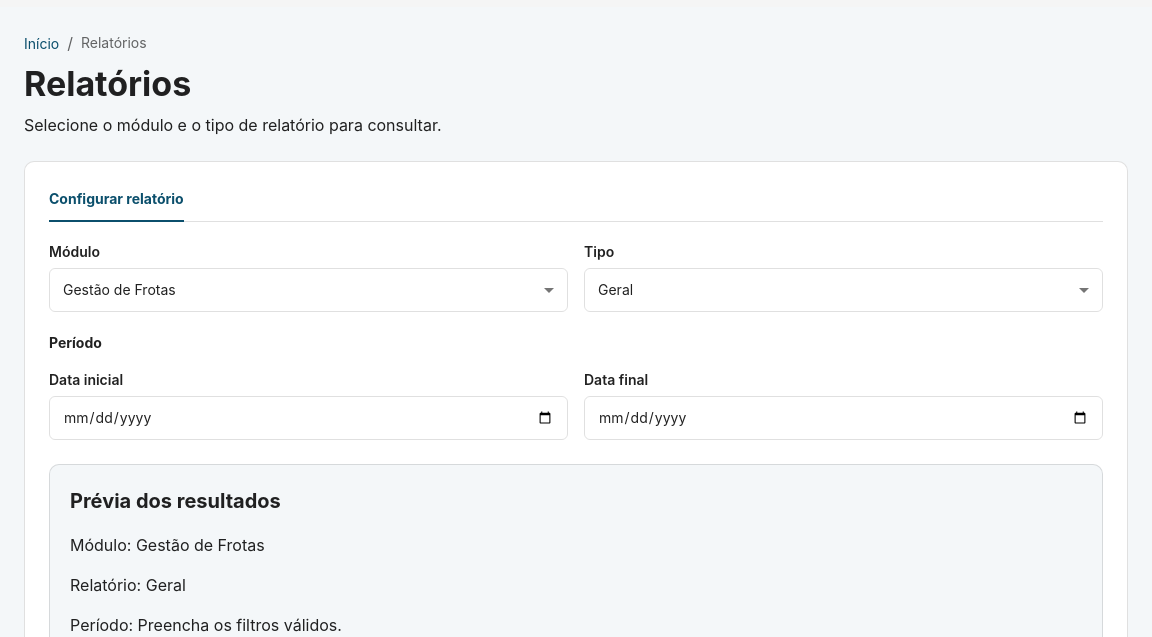
Test: mostra ausência de resultados sem habilitar exportações
Select "Individual" in the dropdown labelled "Tipo" at (844, 290), box [584,268,1103,312]
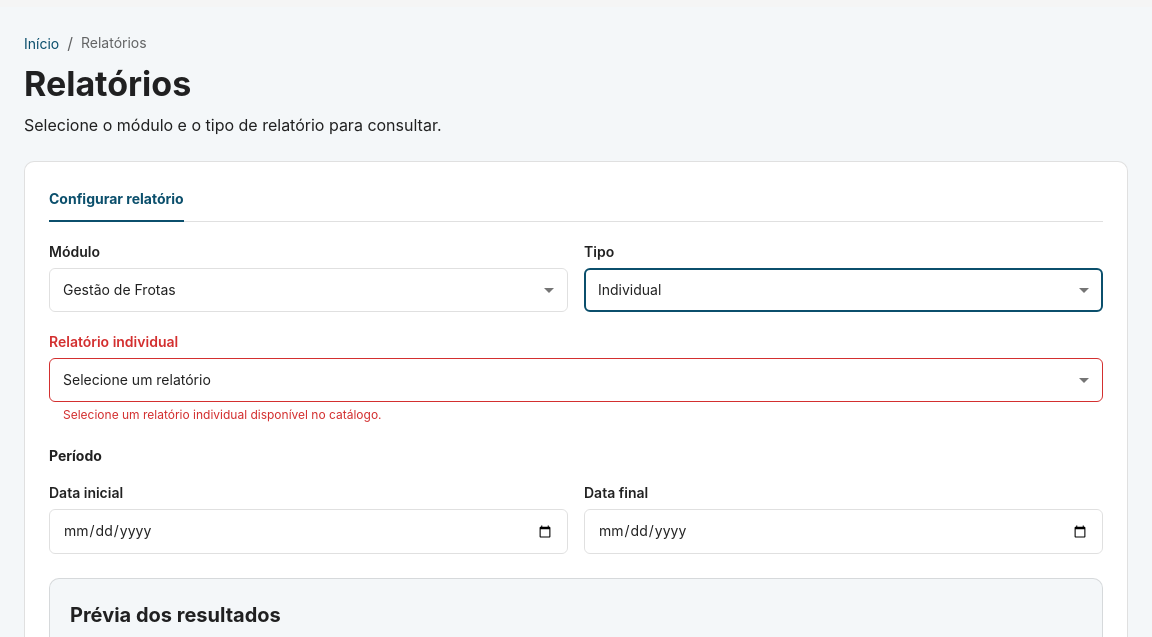
Select "Abastecimentos" in the dropdown labelled "Relatório individual" at (576, 380), box [49,358,1103,402]
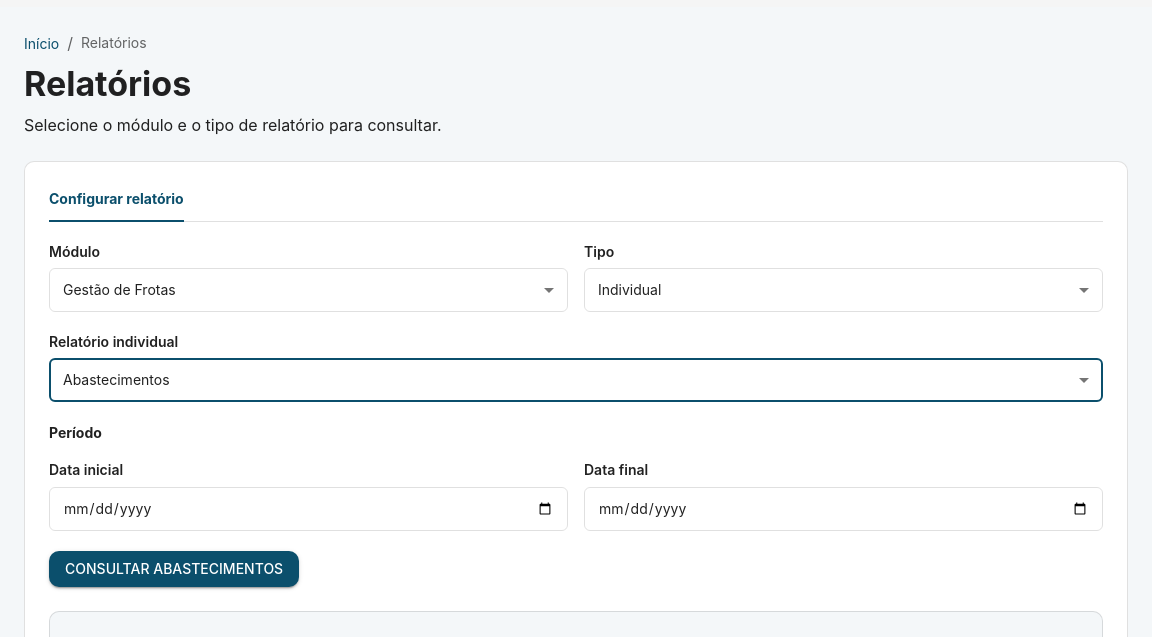
Type "2026-11-01" into the date field labelled "Data inicial".
click(308, 509); type("2026-11-01")  # box [49,486,568,531]
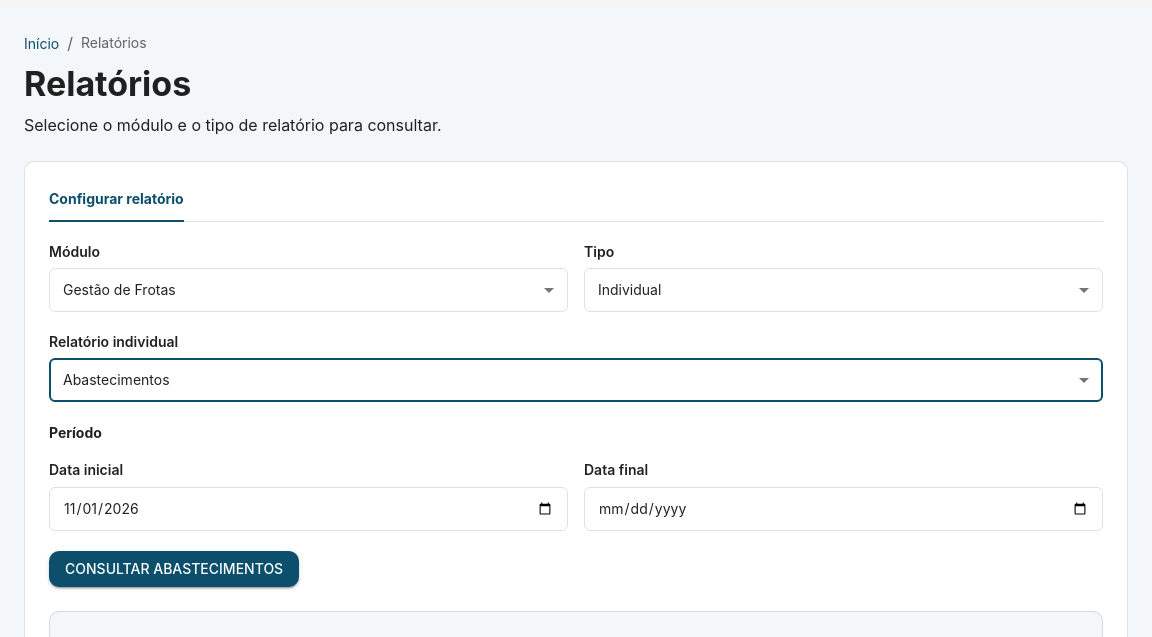
Type "2026-11-14" into the date field labelled "Data final".
click(844, 509); type("2026-11-14")  # box [584,486,1103,531]
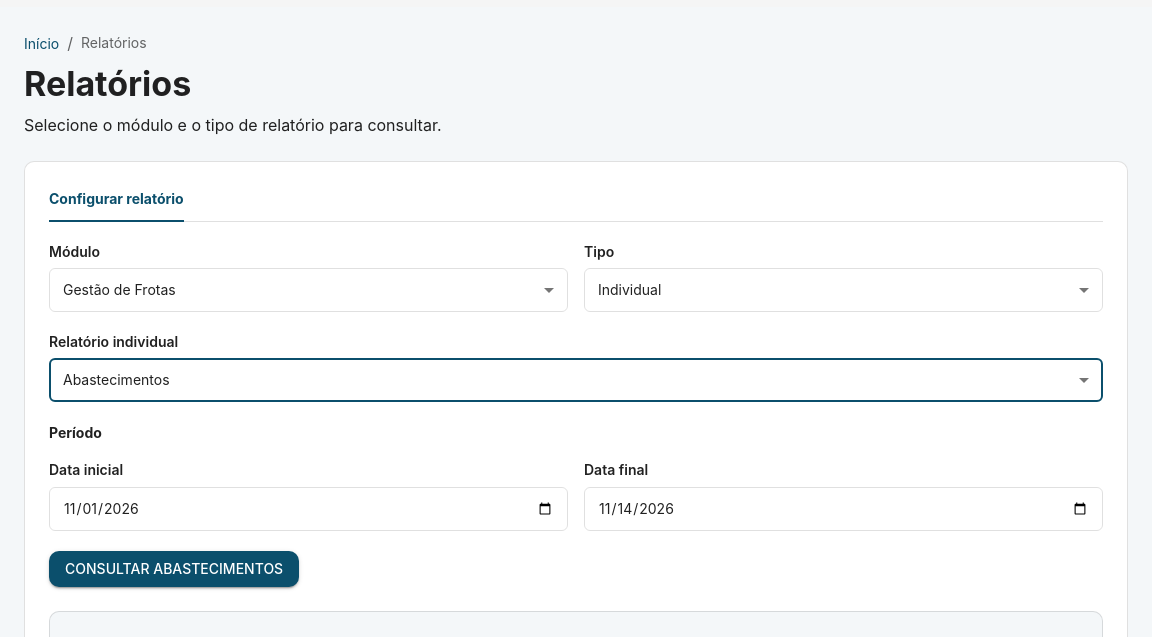
Click the button "Consultar abastecimentos".
click(174, 569)  # box [49,551,299,587]
(page scrolled)
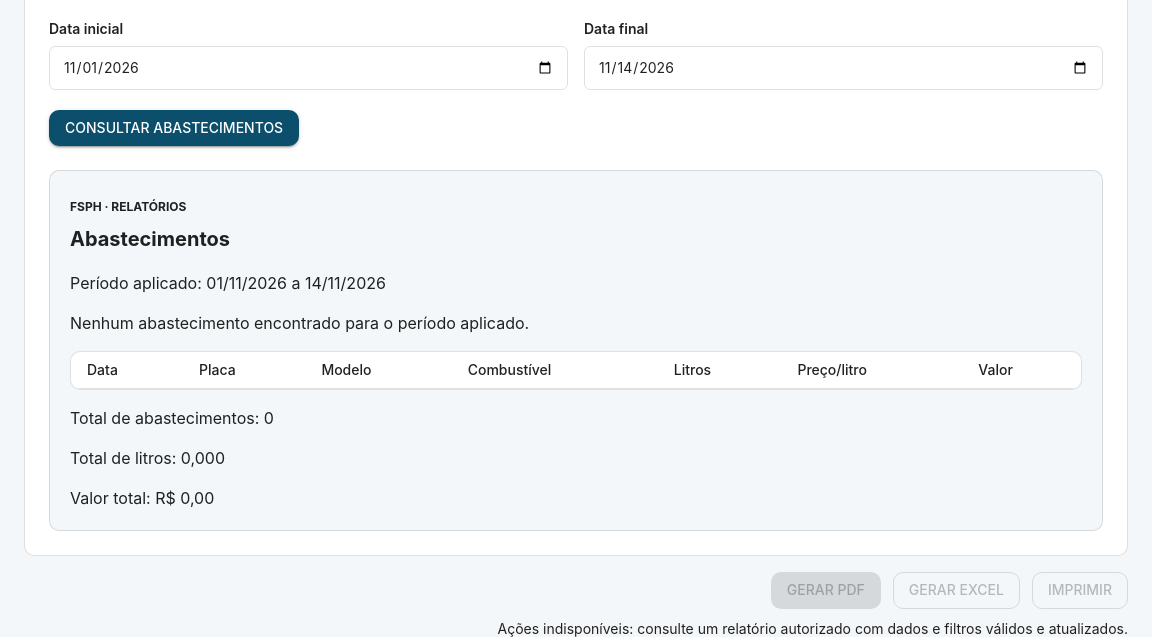
Expected: the button "Gerar Excel" is disabled, [893,572,1020,609]
Expected: the text "Nenhum abastecimento encontrado para o período aplicado." is shown, [70,313,529,333]
